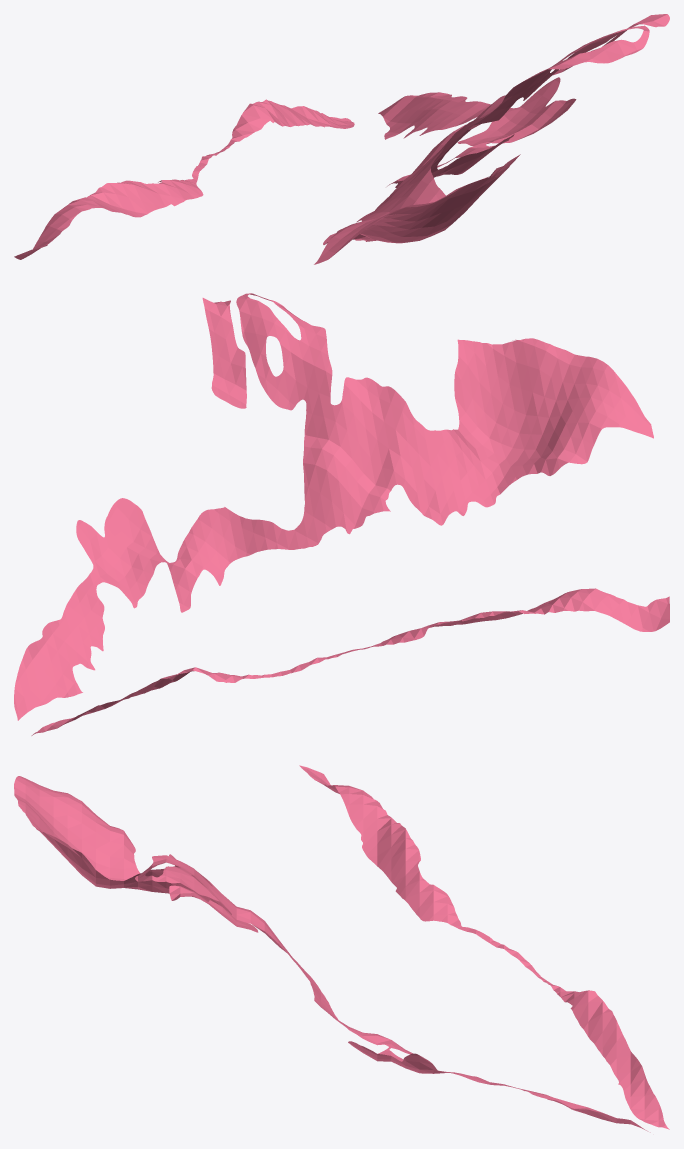
Rendered from 5_Ribbons 1 (3).dae.
3 renders of one model, top to bottom at view 1: azimuth 30°, elevation 25°; view 2: azimuth 150°, elevation 25°; view 3: azimuth 270°, elevation 25°, orthographic. The views are drawn at different scales.
Parts seen in each view (by area): view 1: Object (×3); view 2: Object (×3); view 3: Object (×3).
Boxes of the visible parts, bbox=[...] form: Object (×3): bbox=[14, 14, 669, 264]; Object (×3): bbox=[14, 293, 669, 735]; Object (×3): bbox=[14, 765, 669, 1132].
Bounding box in the file's own units: 40.58 × 18.08 × 40.21.
